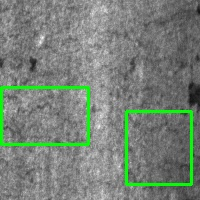crazing: (1, 88, 88, 144), (126, 111, 191, 184)
